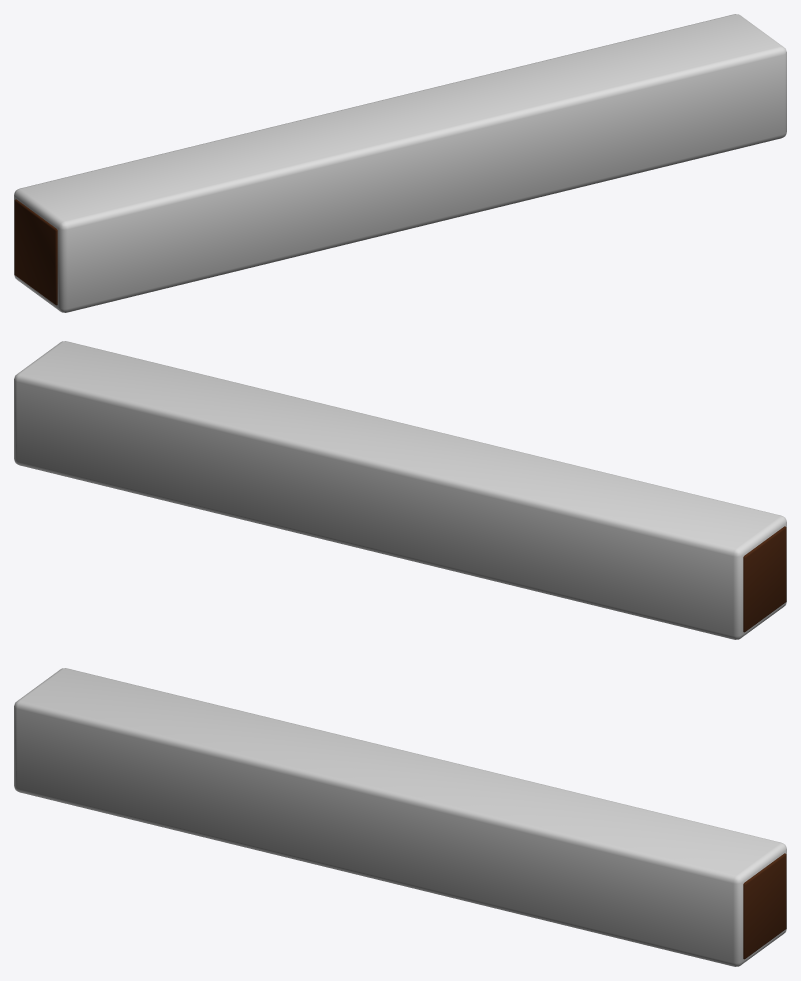
The model's file is thick-wooden-beam.obj.
3 views of the same model, one above another, from view 1: azimuth 30°, elevation 25°; view 2: azimuth 150°, elevation 25°; view 3: azimuth 330°, elevation 25° (orthographic).
Parts seen in each view (by area): view 1: thick-wooden-beam; view 2: thick-wooden-beam; view 3: thick-wooden-beam.
Part boxes in pixels (<box>): thick-wooden-beam: <box>14,14,786,312</box>; thick-wooden-beam: <box>14,341,786,639</box>; thick-wooden-beam: <box>14,668,786,966</box>.
Bounding box in the file's own units: 2.01 × 0.24 × 0.24.
